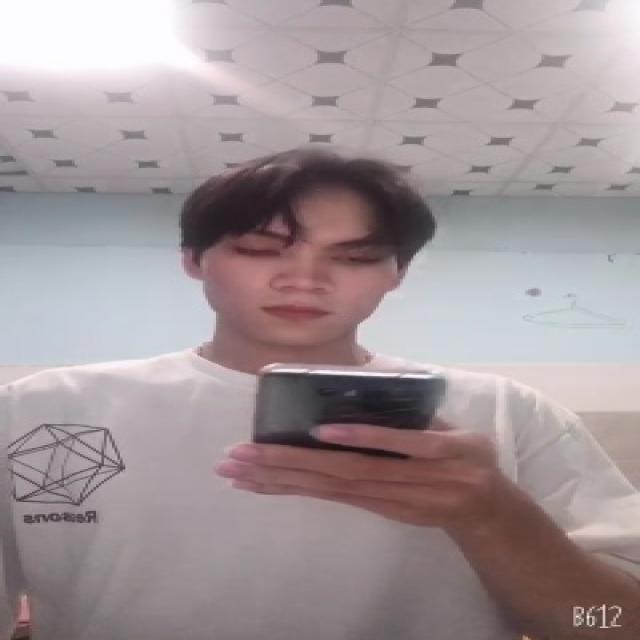Phone: (248, 358, 448, 456)
